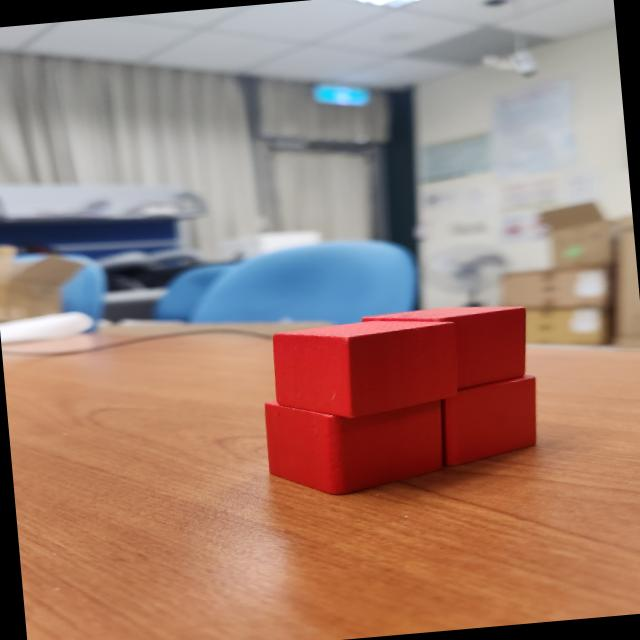red: (263, 384, 451, 504), (269, 312, 463, 425), (363, 300, 532, 398), (437, 372, 543, 468)
